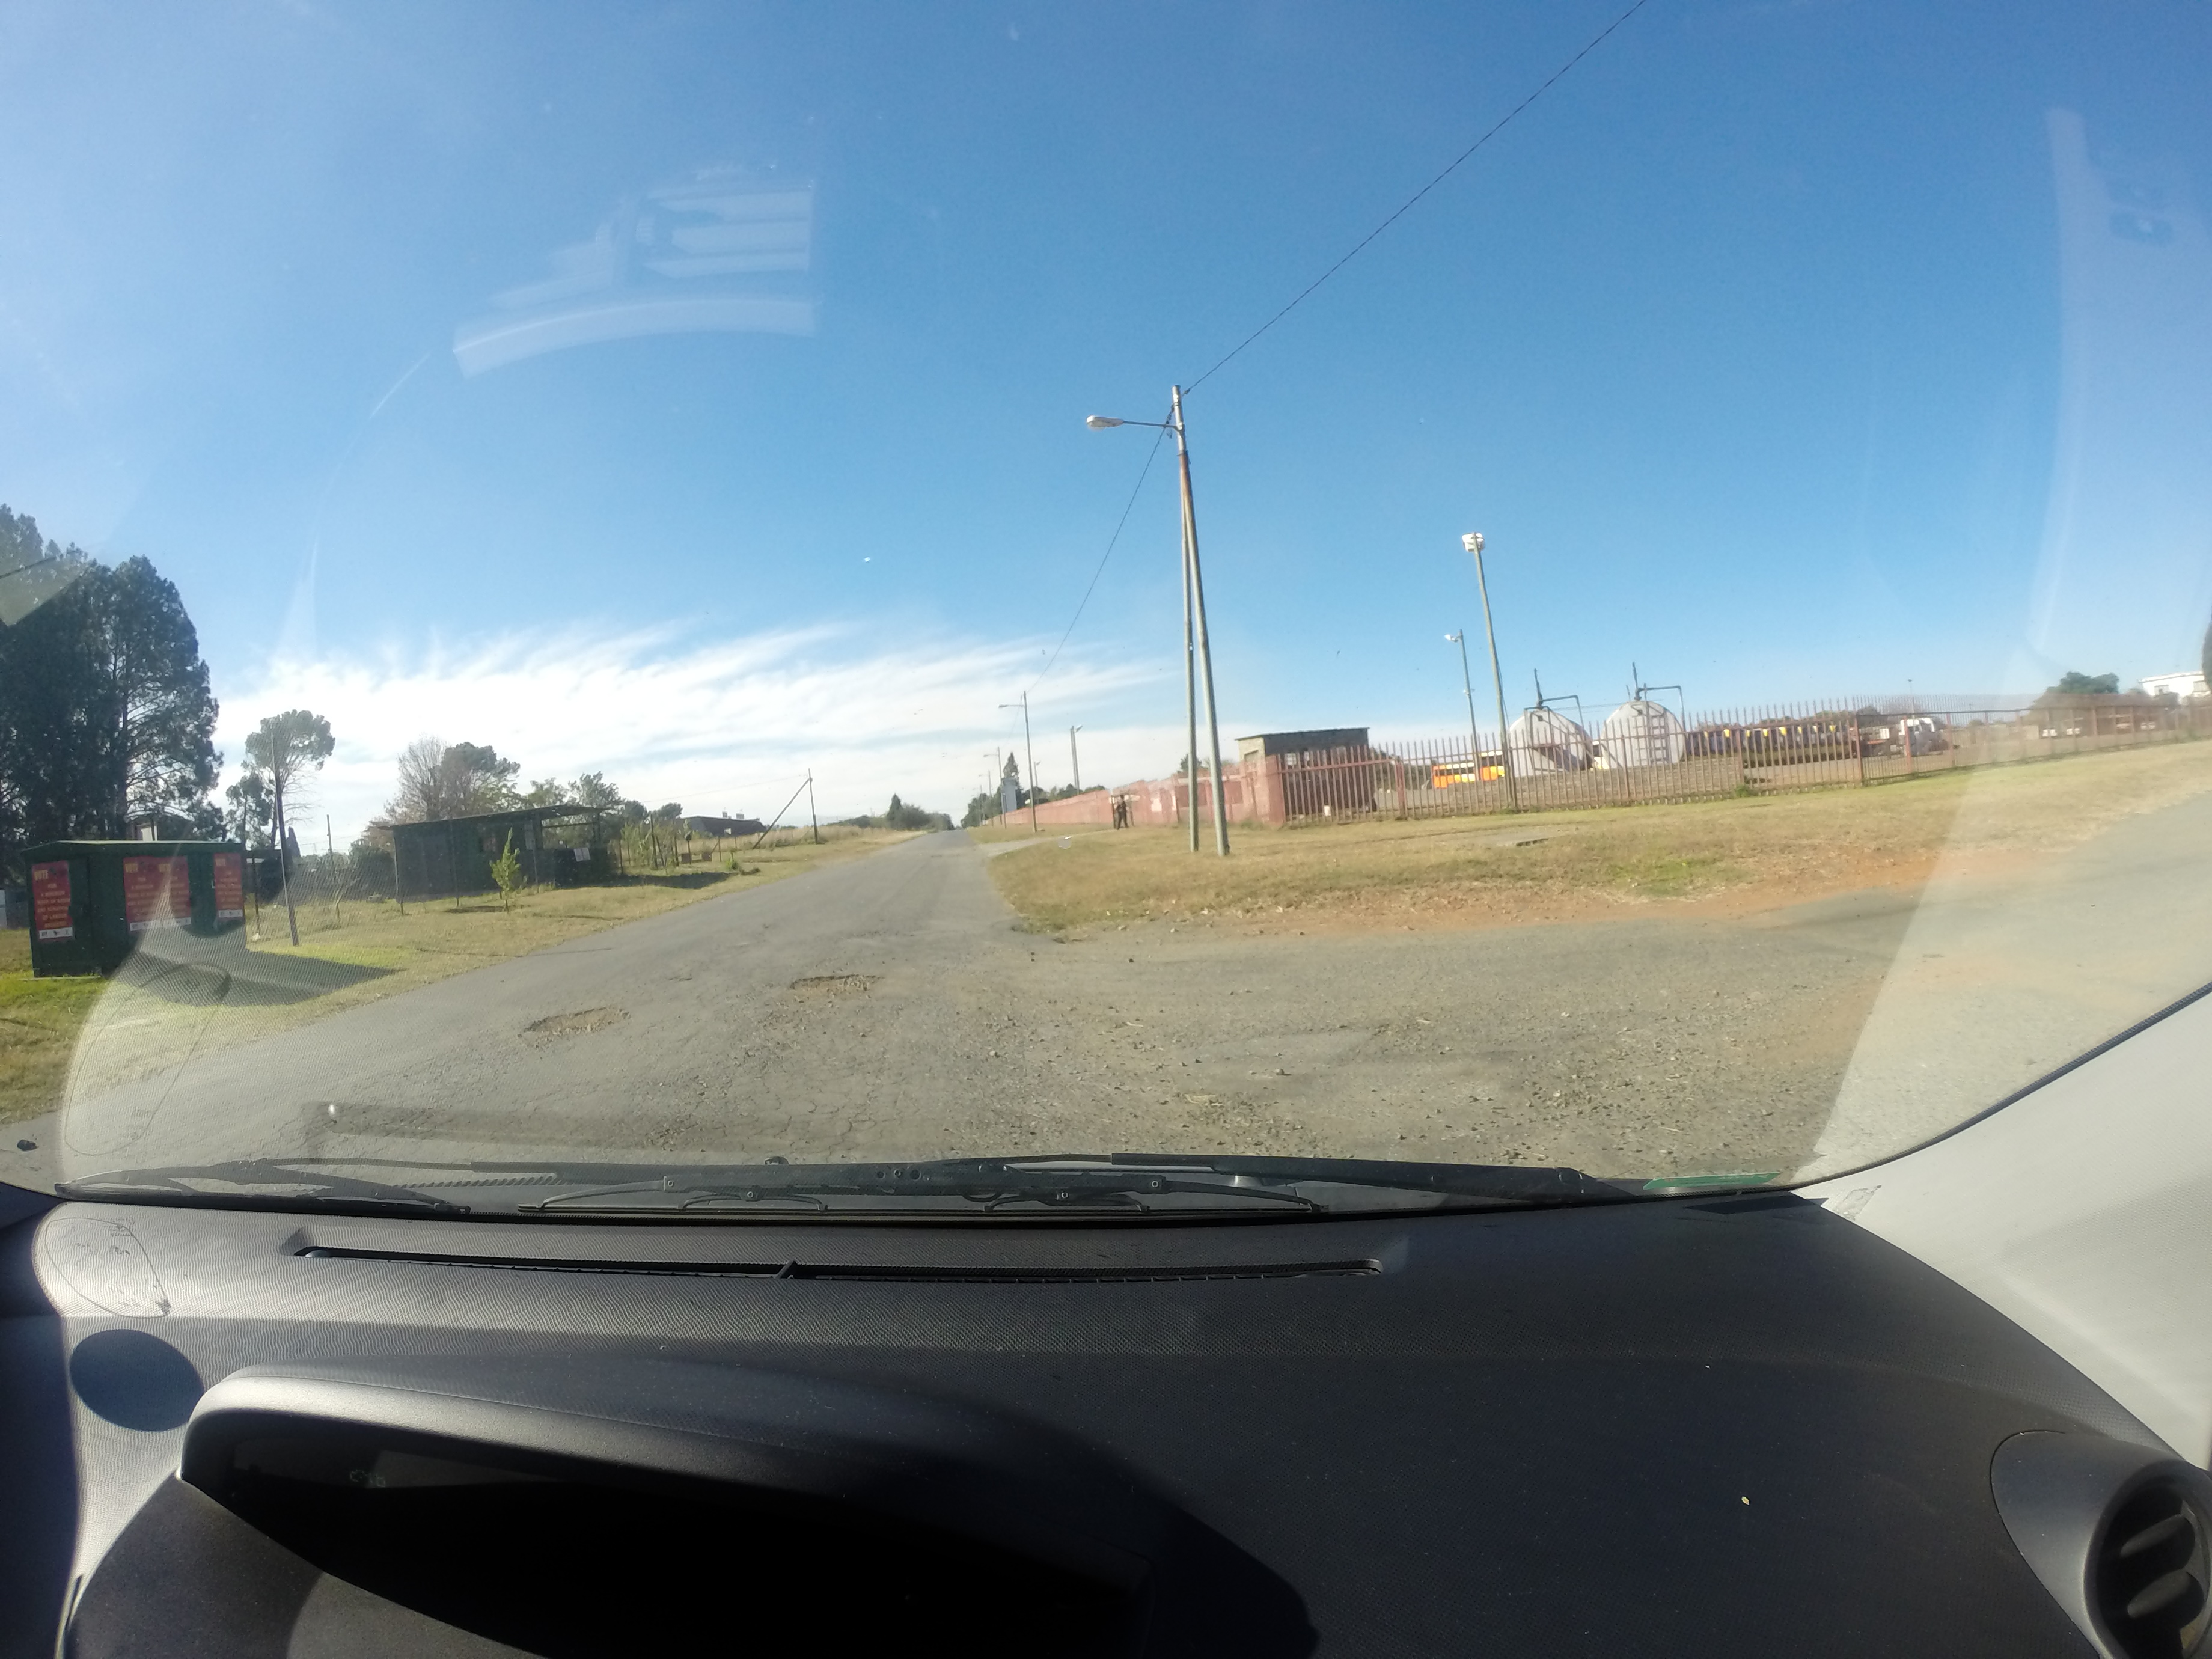pothole: (484, 979, 686, 1075), (773, 920, 892, 1051)
